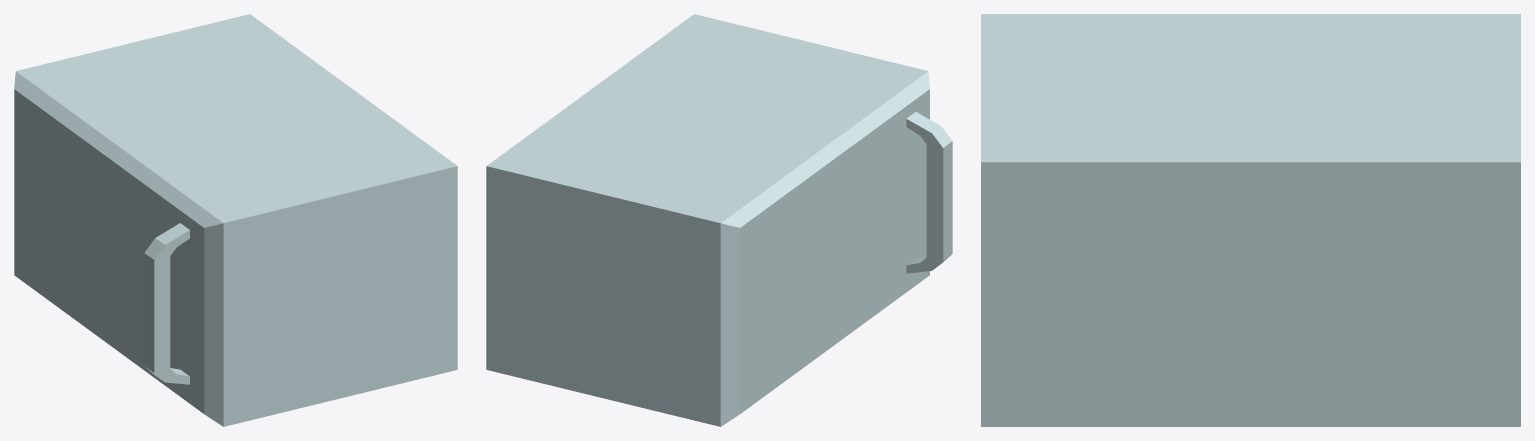
File: microwave.fbx
3 views of the same model, side by side, from view 1: azimuth 30°, elevation 25°; view 2: azimuth 150°, elevation 25°; view 3: azimuth 270°, elevation 25° (orthographic). The views are drawn at different scales.
Visible parts, largest first — view 1: microwave; view 2: microwave; view 3: microwave.
Boxes of the visible parts, x1,y1,x2,y2 form: microwave: (14, 14, 457, 426); microwave: (486, 14, 952, 426); microwave: (981, 14, 1520, 426).
Bounding box in the file's own units: 61.88 × 42.83 × 79.2.
